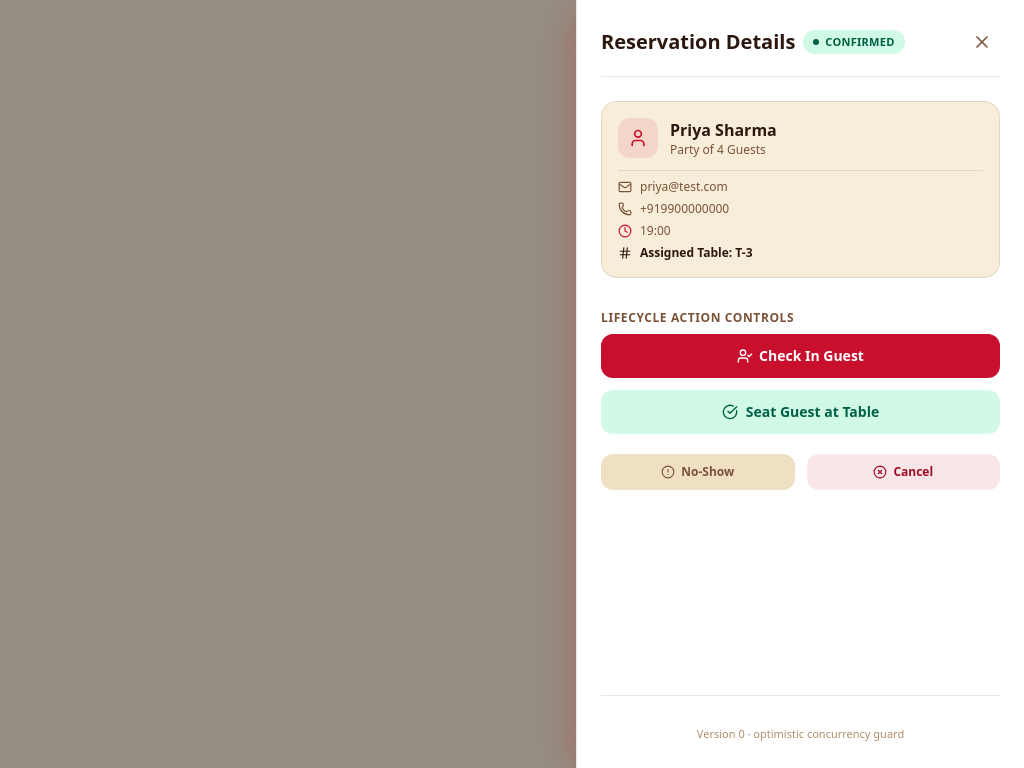
Test case: ReservationDrawer table-occupancy conflict on seating › shows a conflict confirmation instead of failing silently when the table is occupied
The image size is (1024, 768).
Click the button "Seat Guest at Table": (800, 412) [601, 390, 1000, 434]
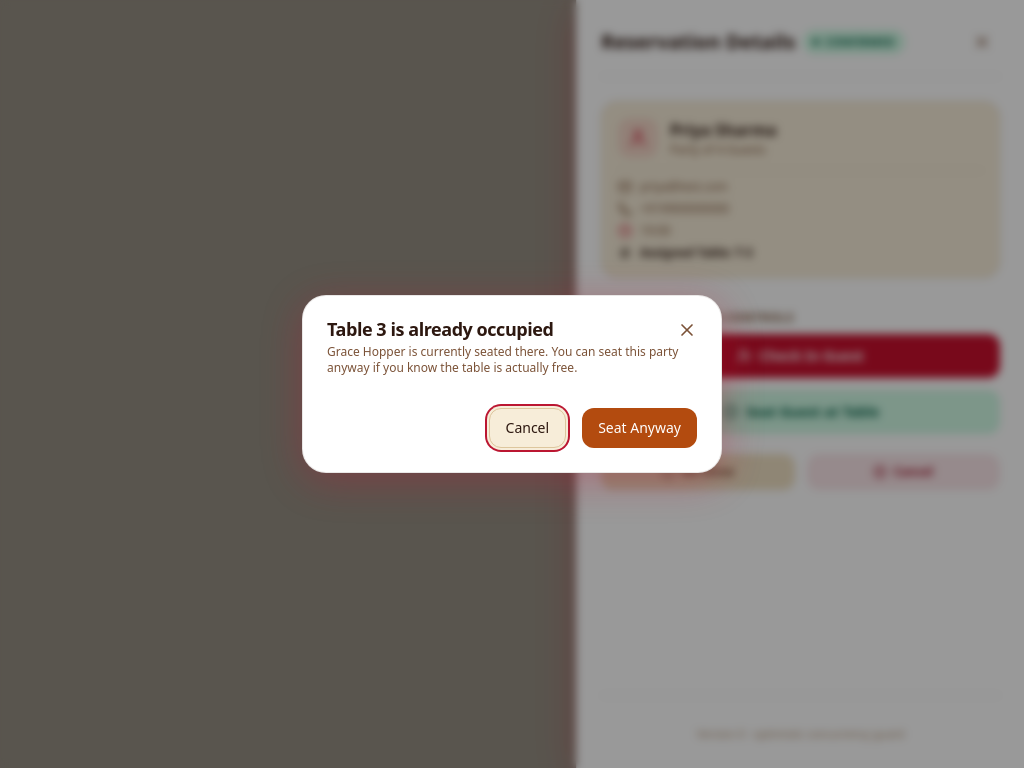
Check: the text "Grace Hopper" is shown, box [327, 343, 406, 360]
